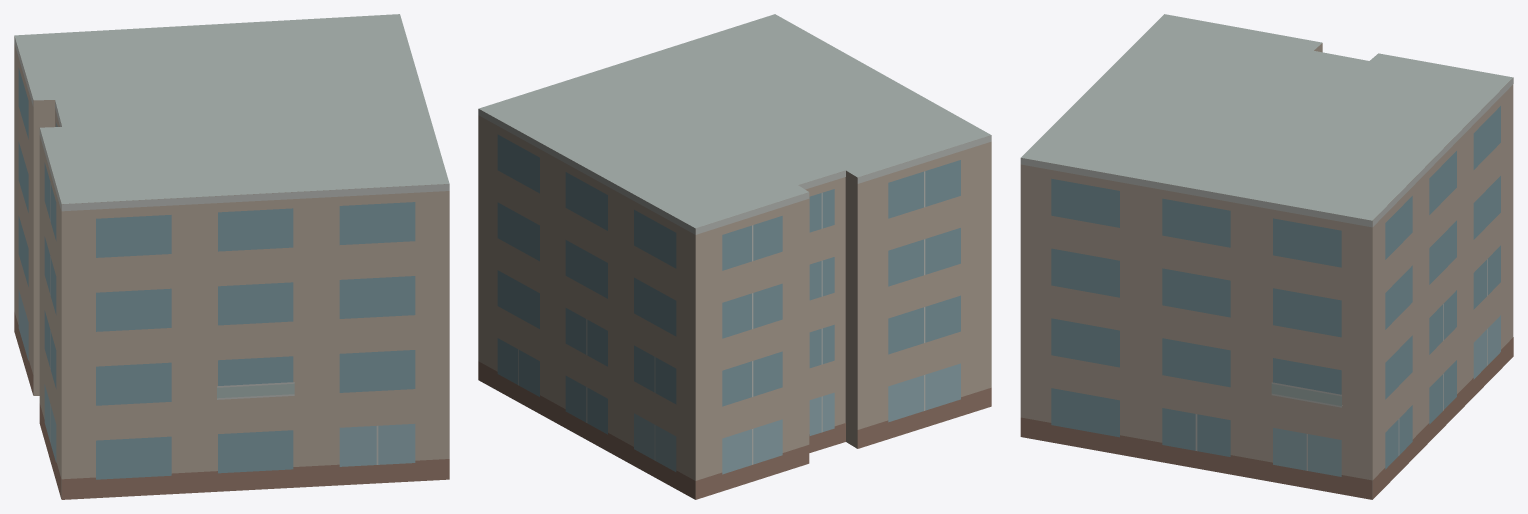
The model's file is survey-upis-32533164.glb.
The picture shows the model from 3 angles, left to right: view 1: azimuth 30°, elevation 25°; view 2: azimuth 150°, elevation 25°; view 3: azimuth 270°, elevation 25°; orthographic projection. The views are drawn at different scales.
Visible parts, largest first — view 1: survey-upis-32533164.tmp; view 2: survey-upis-32533164.tmp; view 3: survey-upis-32533164.tmp.
Part boxes in pixels (left/top/right/bottom): survey-upis-32533164.tmp: left=14, top=14, right=449, bottom=499; survey-upis-32533164.tmp: left=478, top=14, right=991, bottom=499; survey-upis-32533164.tmp: left=1020, top=14, right=1513, bottom=499.
Bounding box in the file's own units: 16.05 × 10.1 × 16.16.
